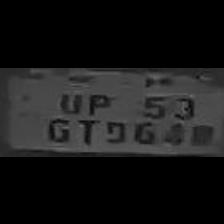3: (168, 91, 196, 119)
5: (134, 92, 168, 116)
6: (128, 115, 160, 143)
9: (98, 116, 128, 142)
G: (42, 112, 75, 142)
P: (84, 88, 112, 114)
T: (71, 115, 99, 143)
U: (53, 86, 83, 114)
